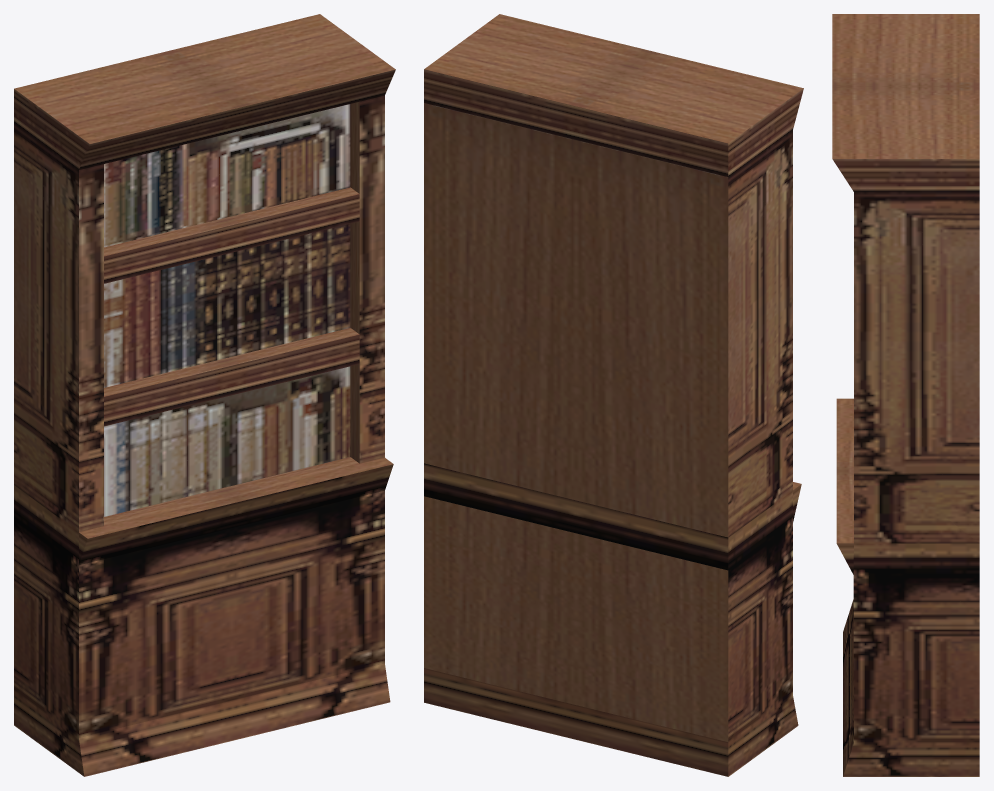
File: Bcase01.glb
3 views of the same model, side by side, from view 1: azimuth 30°, elevation 25°; view 2: azimuth 150°, elevation 25°; view 3: azimuth 270°, elevation 25° (orthographic). The views are drawn at different scales.
Parts seen in each view (by area): view 1: _Bcase01; view 2: _Bcase01; view 3: _Bcase01.
Part boxes in pixels (<box>): _Bcase01: <box>14,14,395,776</box>; _Bcase01: <box>424,14,803,776</box>; _Bcase01: <box>832,14,979,776</box>.
Bounding box in the file's own units: 1.61 × 3.21 × 0.694.
Materials: 1 (1 with a texture image).
